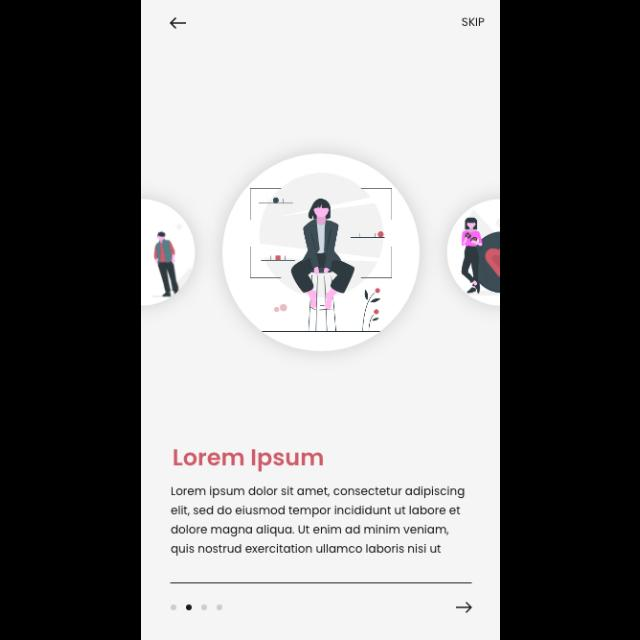icon: (456, 600, 472, 614), (169, 18, 187, 30)
image: (222, 154, 420, 352), (446, 200, 499, 306), (142, 200, 194, 306)
pageindicator: (170, 604, 223, 610)
text: (170, 486, 466, 556), (172, 449, 324, 473), (461, 18, 485, 28)
